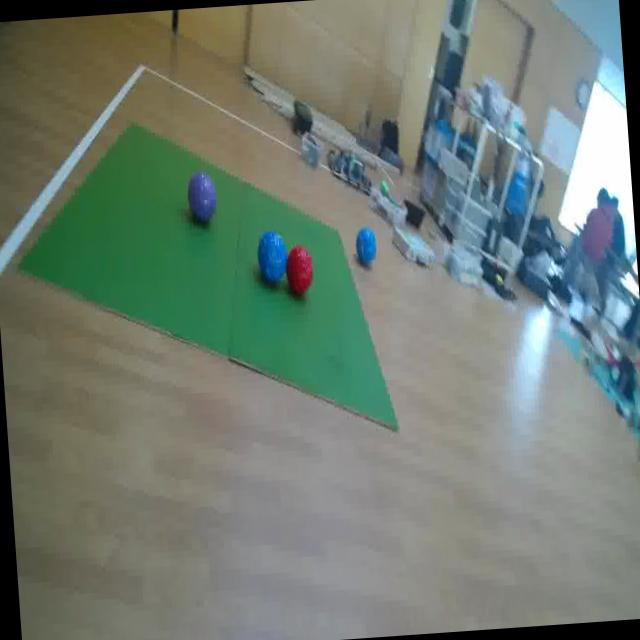blue_ball: (254, 230, 288, 280), (352, 222, 378, 264)
purple_ball: (183, 170, 220, 228)
red_ball: (282, 243, 316, 298)
